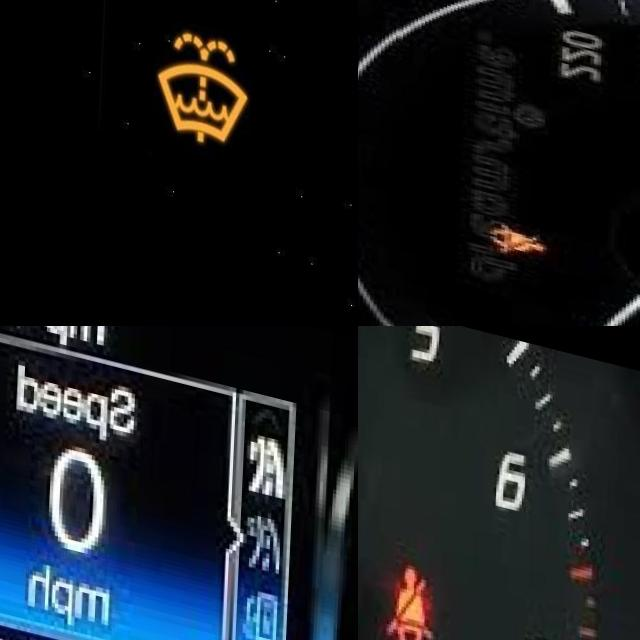Seat Belt: (389, 544, 438, 637), (493, 204, 552, 246)
Washer Fluid: (154, 7, 264, 139)
